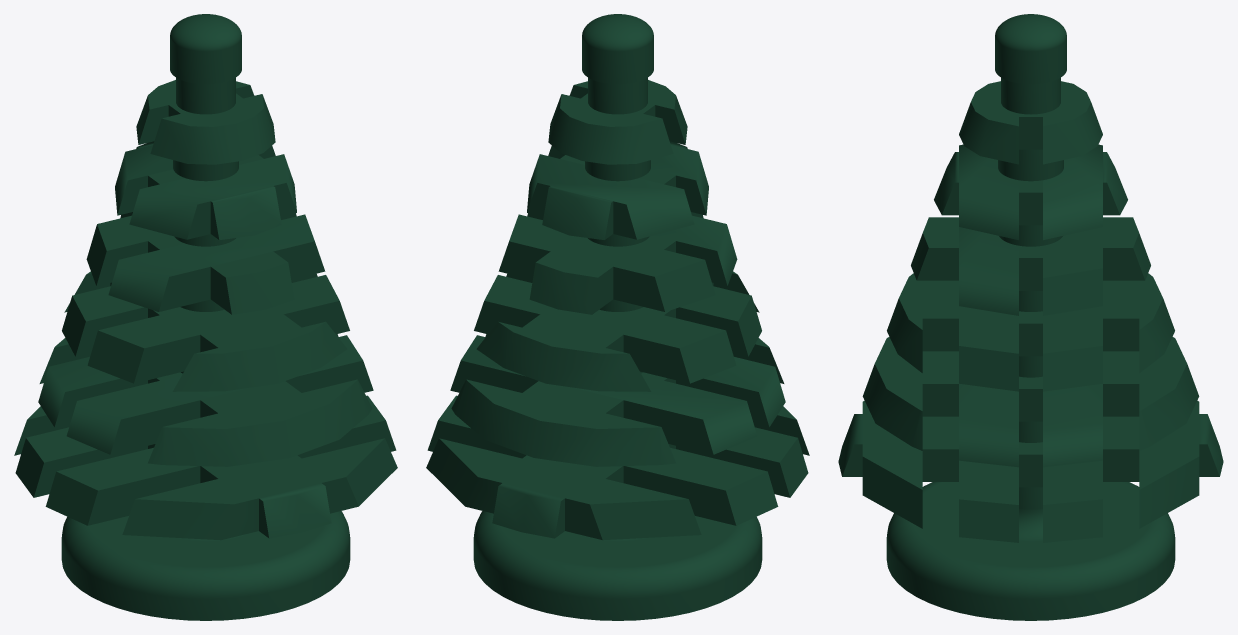
File: tree.dae
3 views of the same model, side by side, from view 1: azimuth 30°, elevation 25°; view 2: azimuth 150°, elevation 25°; view 3: azimuth 270°, elevation 25° (orthographic).
Visible parts, largest first — view 1: Inner-Node-UntitledModel_dot_io-0; view 2: Inner-Node-UntitledModel_dot_io-0; view 3: Inner-Node-UntitledModel_dot_io-0.
Part boxes in pixels (<box>): Inner-Node-UntitledModel_dot_io-0: <box>14,14,397,620</box>; Inner-Node-UntitledModel_dot_io-0: <box>426,14,809,620</box>; Inner-Node-UntitledModel_dot_io-0: <box>838,14,1223,620</box>.
Bounding box in the file's own units: 63.63 × 98.75 × 63.83.
